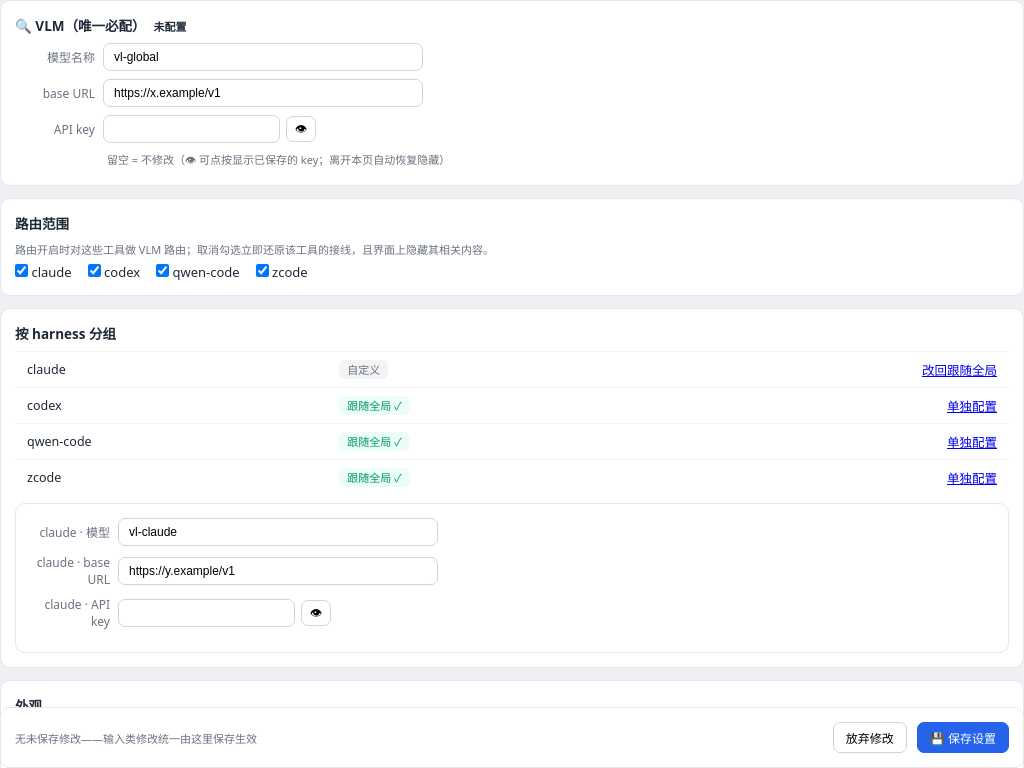
SettingsPage SecretField（VLM key 显隐） › 隐藏 清空并恢复 password
This screenshot has width=1024, height=768.
Expected: the field showing "vl-global" next to "模型名称" is shown, [103,43,423,71]
Click the button named "显示 API key" at [301, 129], box [286,116,316,142]
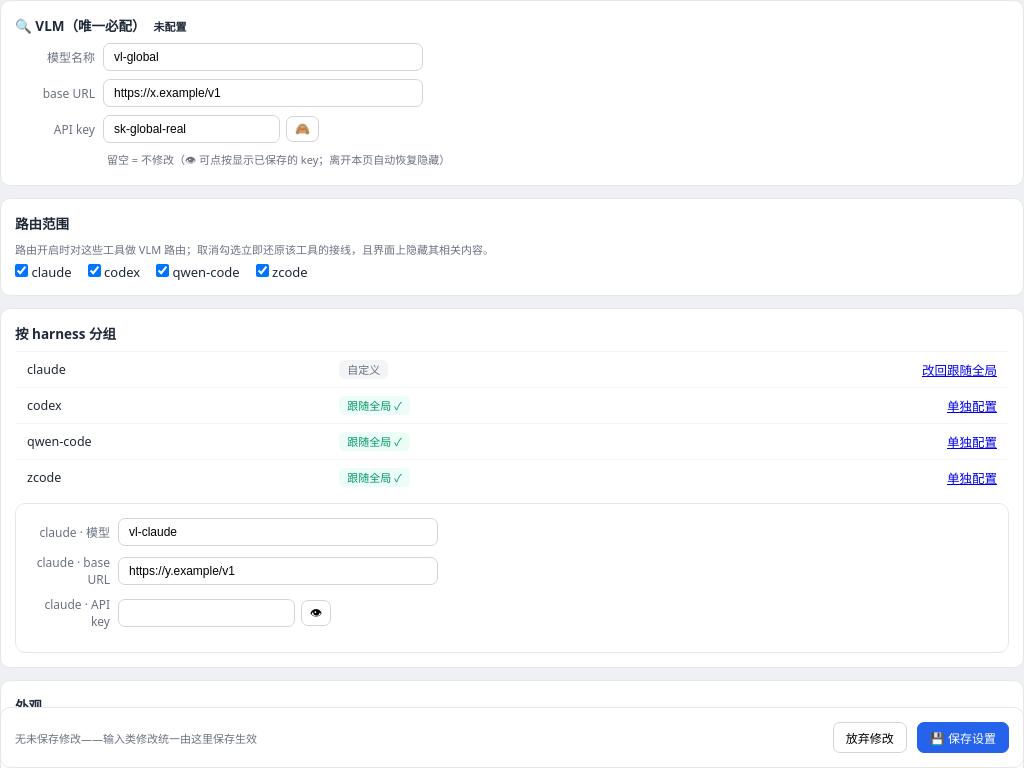
Expected: the 3rd field showing "sk-global-real" is shown, [103,115,280,143]
Click the button named "隐藏 API key" at [302, 129], box [286,116,319,142]
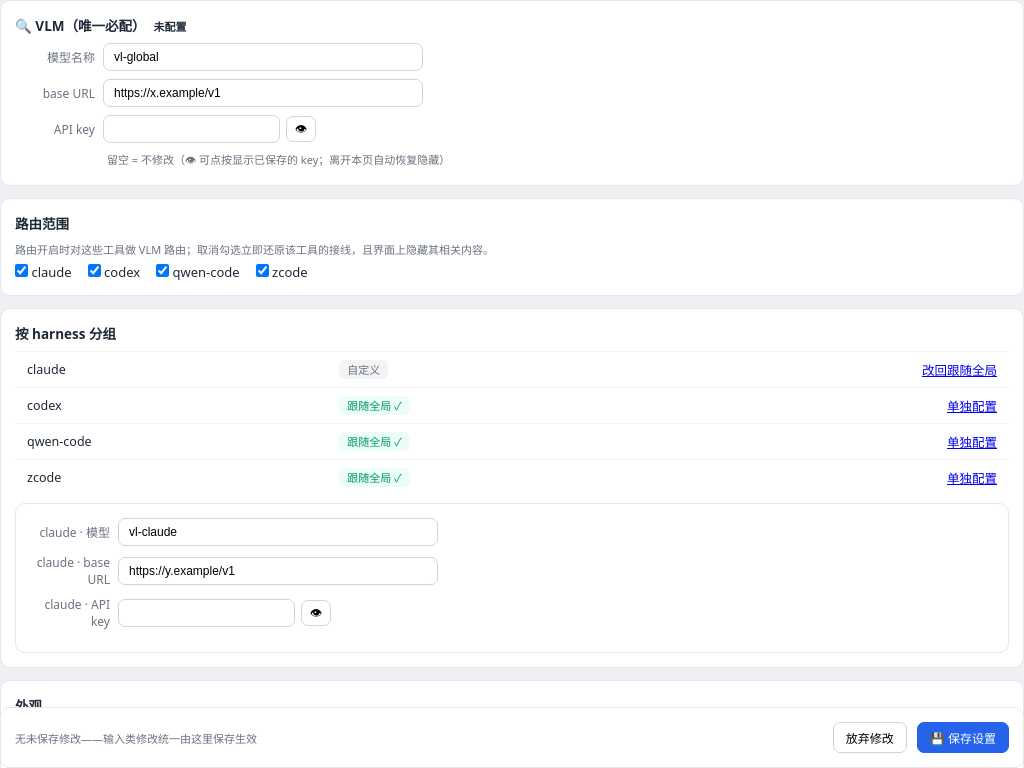
Expected: the field showing "sk-global-real" is not shown
Expected: the button named "显示 API key" is shown, [286,116,316,142]
